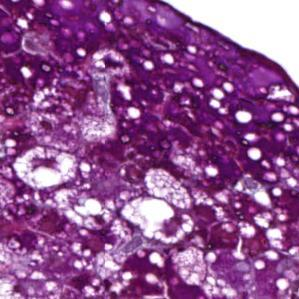ballooning: (119, 194, 196, 246), (11, 146, 80, 192), (144, 166, 195, 212)
